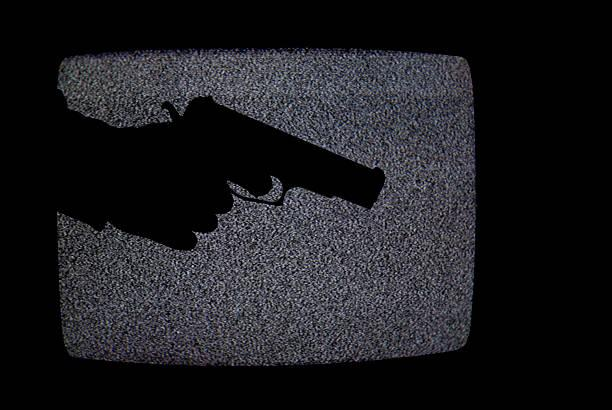weapon: (162, 84, 386, 215)
